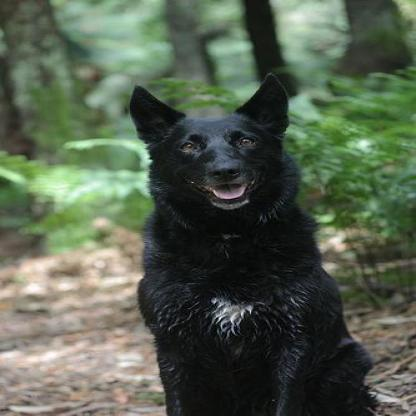kelpie: (121, 73, 379, 414)
